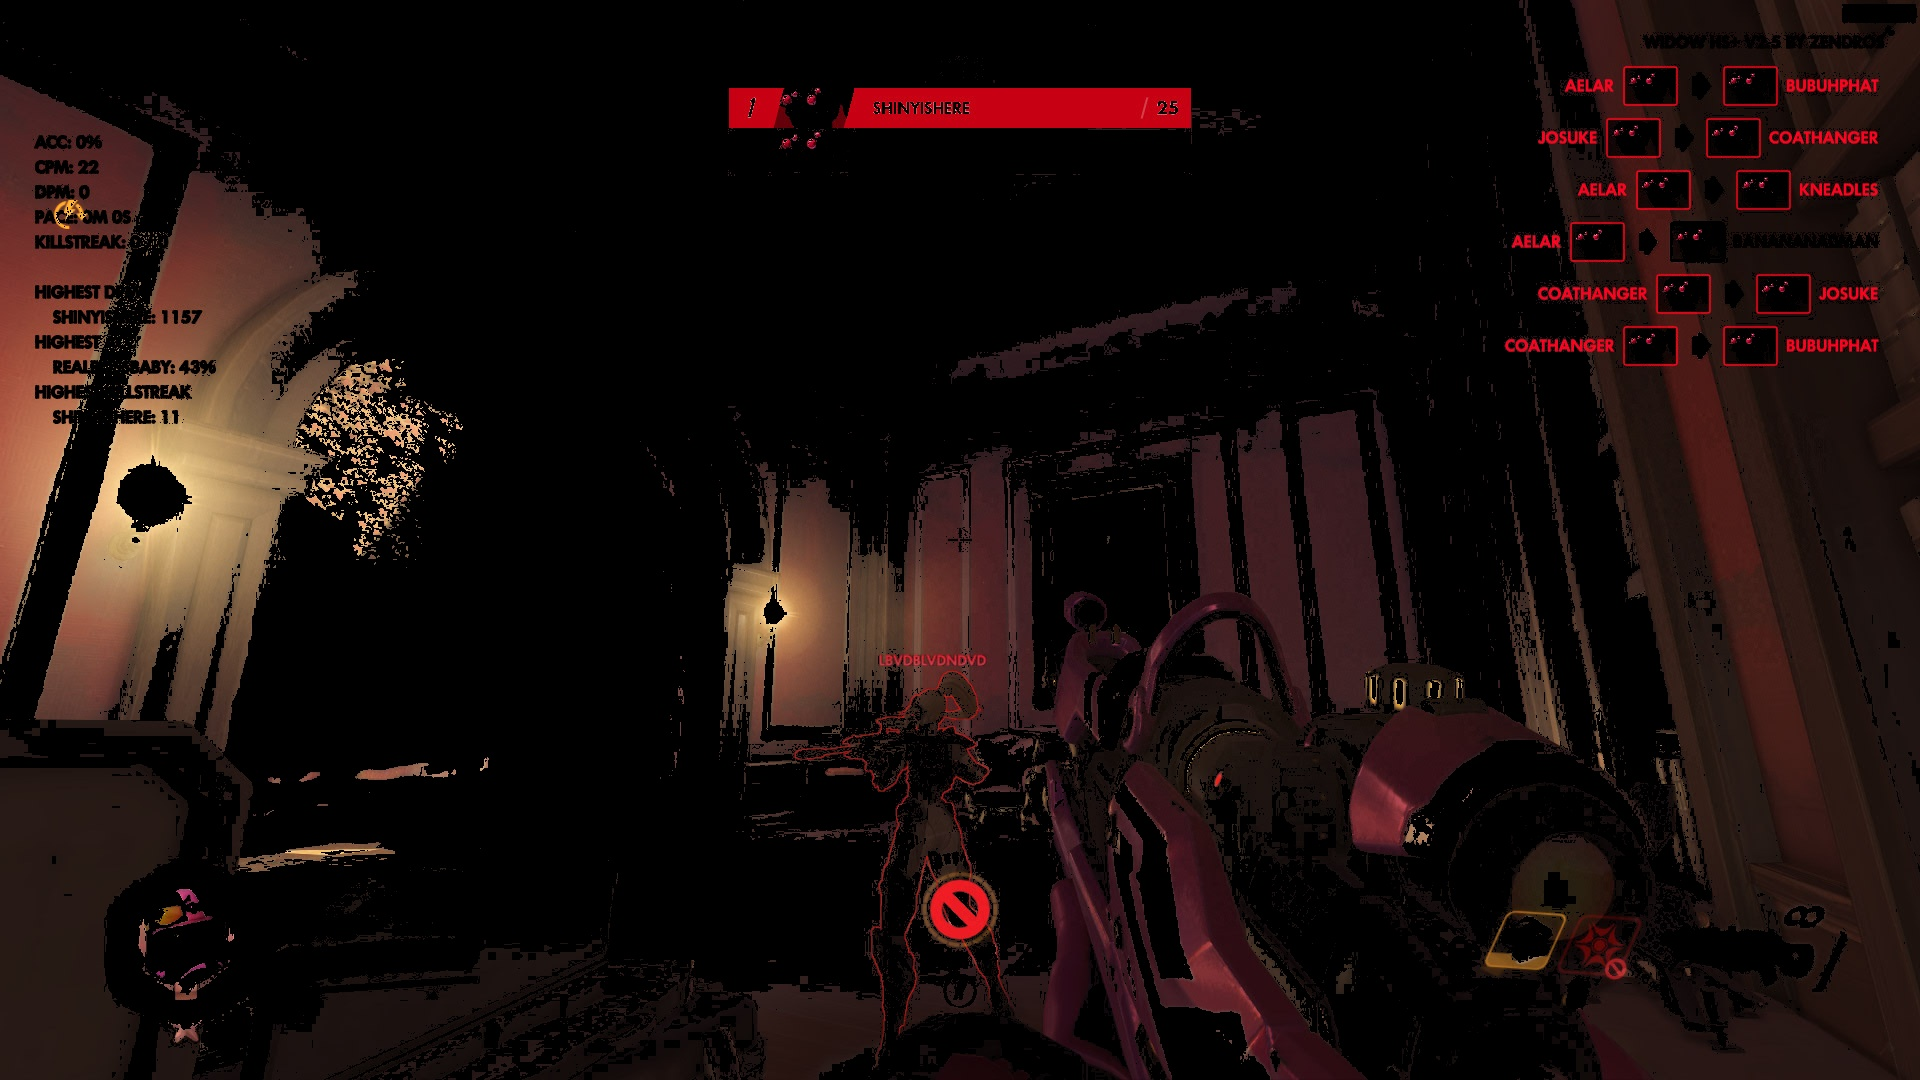widowmaker: (870, 675, 1013, 1077)
